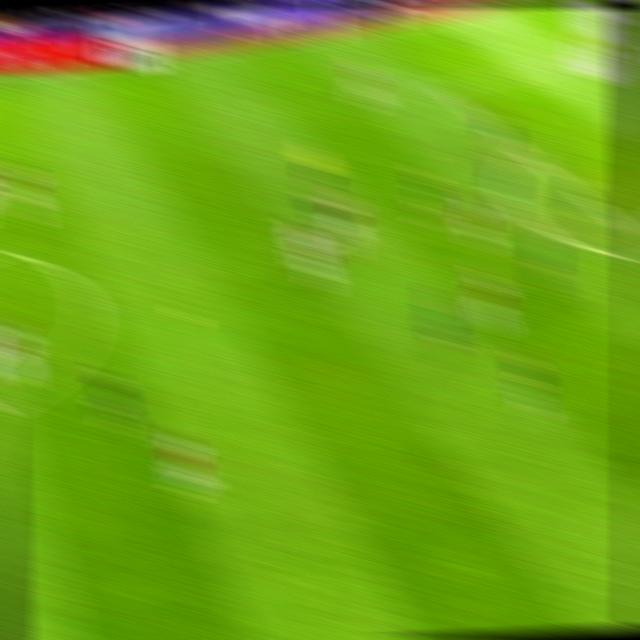bigarea_top_inner: (423, 74, 456, 101)
top_arc_area_intersection: (510, 140, 543, 167)
